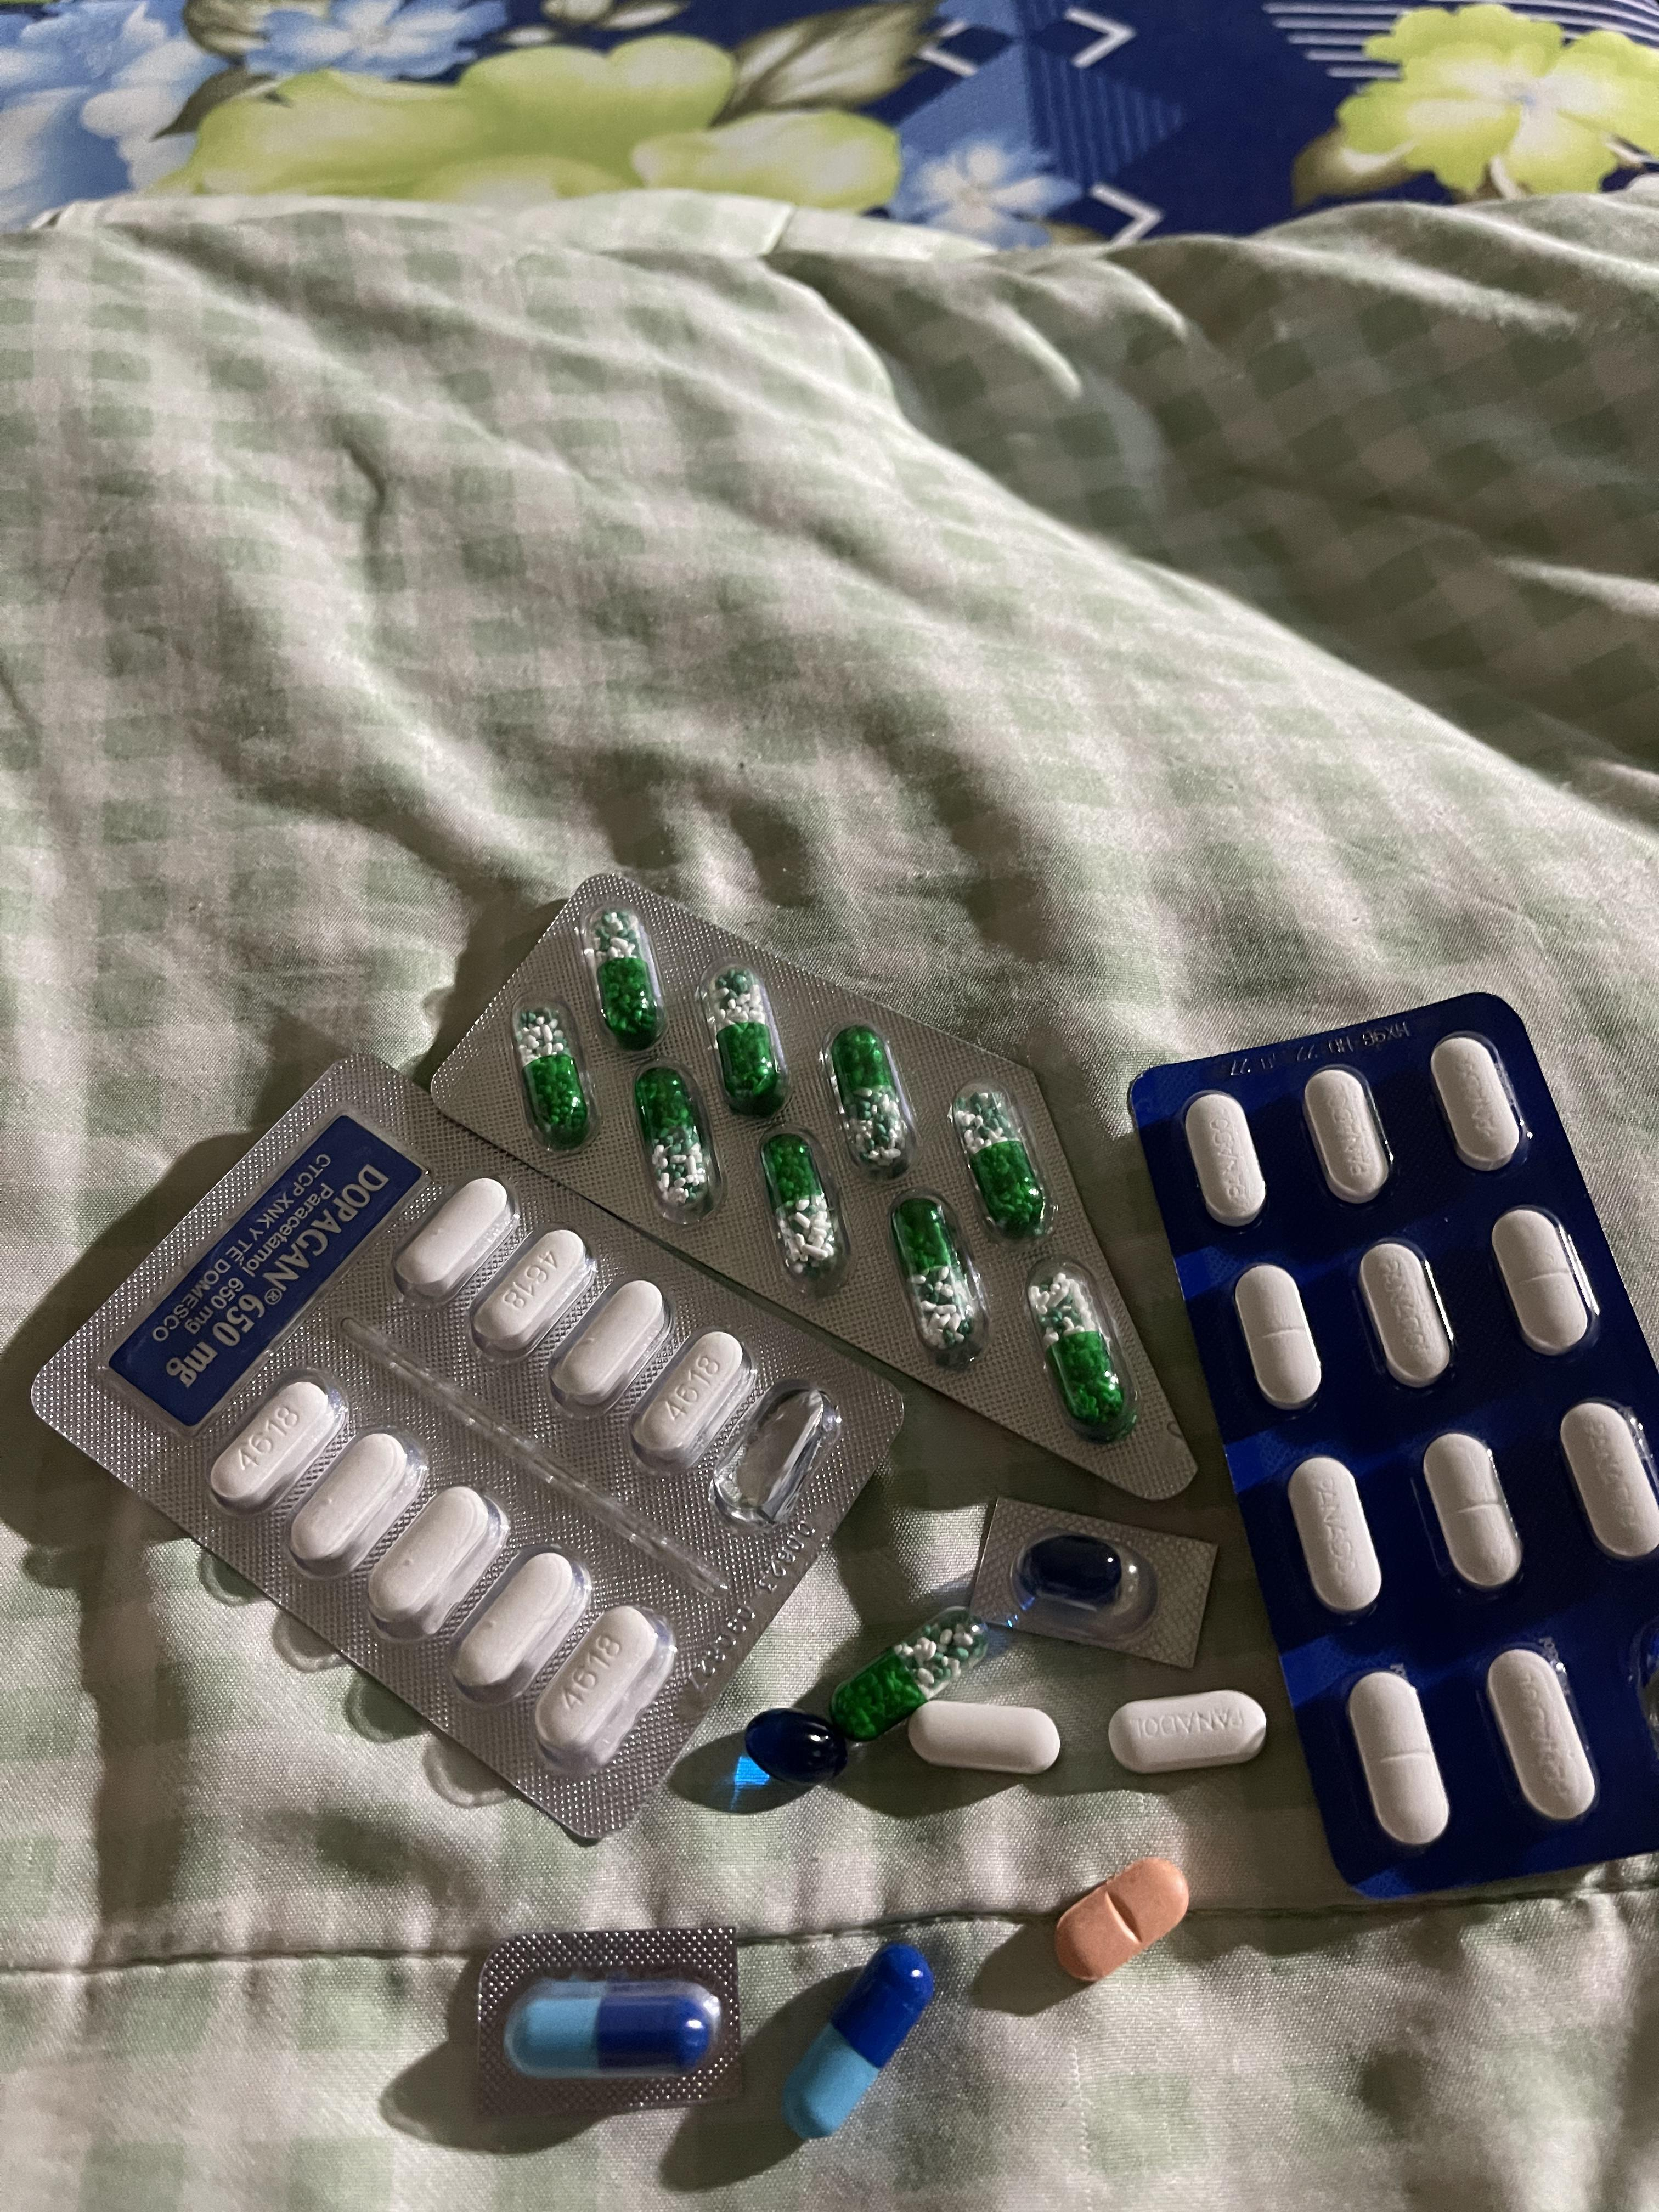Lincomyxin_500mg: (742, 1709, 850, 1791), (1023, 1533, 1127, 1609)
Loratadine_10mg: (1063, 1857, 1185, 1982)
Paracetamol_350mg: (1483, 1646, 1598, 1825), (1345, 1670, 1450, 1846), (1560, 1397, 1659, 1562), (1422, 1433, 1523, 1595), (1492, 1207, 1595, 1359), (1288, 1458, 1382, 1618), (1358, 1240, 1453, 1390), (1112, 1689, 1270, 1775), (1431, 1033, 1525, 1172), (1234, 1263, 1321, 1409), (1304, 1068, 1394, 1205), (1182, 1092, 1260, 1228)
Paracetamol_500mg: (538, 1601, 676, 1775), (451, 1545, 587, 1702), (364, 1484, 500, 1639), (288, 1428, 420, 1578), (213, 1378, 343, 1514), (633, 1327, 756, 1468), (392, 1177, 518, 1308), (551, 1284, 671, 1418), (472, 1223, 589, 1353), (904, 1698, 1060, 1775)
Paracetamol_650mg: (831, 1606, 990, 1742), (950, 1073, 1044, 1233), (890, 1197, 978, 1360), (1033, 1275, 1119, 1420), (828, 1029, 910, 1174), (762, 1141, 842, 1285), (706, 961, 781, 1109), (634, 1068, 711, 1209), (516, 1005, 589, 1143), (592, 911, 662, 1047)
pill: (782, 1942, 932, 2139), (514, 1987, 720, 2074)
